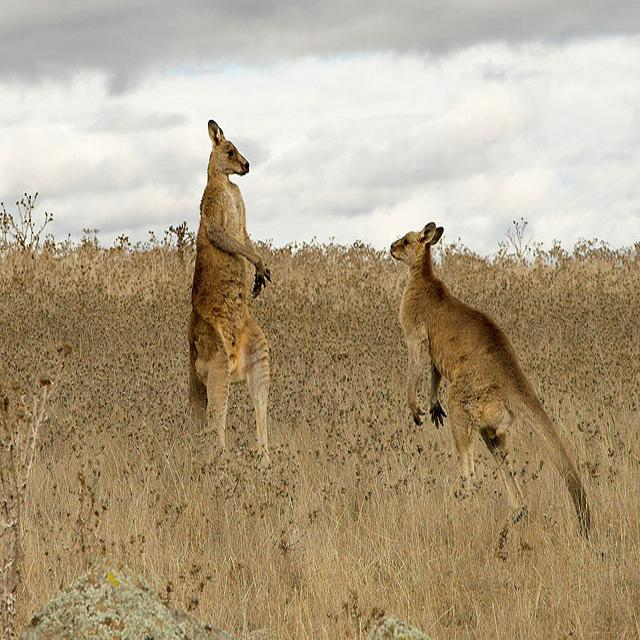kangaroo: (379, 227, 593, 526), (173, 126, 268, 468)
